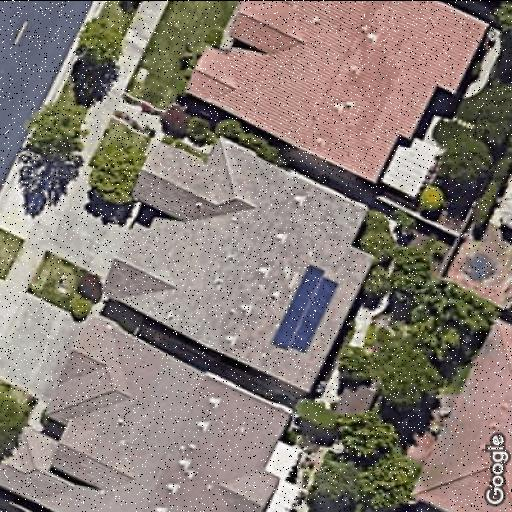solar-panel: (268, 262, 338, 352)
